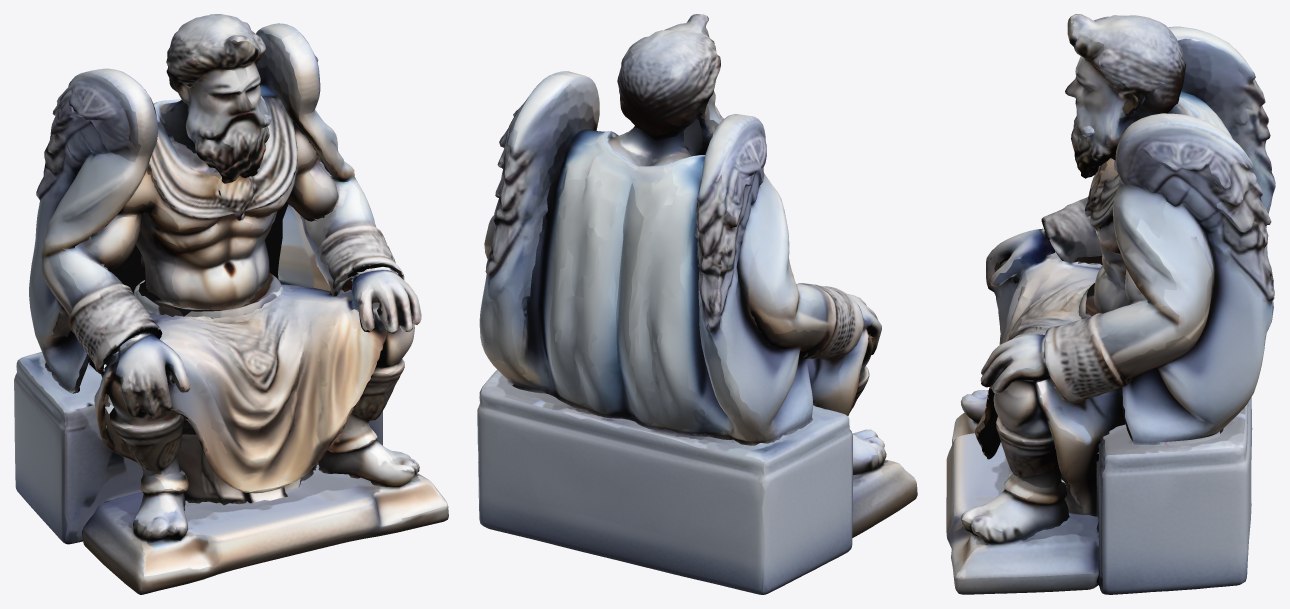
Rendered from statue.fbx.
3 renders of one model, left to right at view 1: azimuth 30°, elevation 25°; view 2: azimuth 150°, elevation 25°; view 3: azimuth 270°, elevation 25°, orthographic. The views are drawn at different scales.
Parts seen in each view (by area): view 1: tmpqa6kt3pl.ply; view 2: tmpqa6kt3pl.ply; view 3: tmpqa6kt3pl.ply.
Part boxes in pixels (x1,y1,x2,y2): tmpqa6kt3pl.ply: [14, 14, 448, 594]; tmpqa6kt3pl.ply: [477, 14, 917, 594]; tmpqa6kt3pl.ply: [946, 14, 1275, 594].
Size of the model in its own units: 142 by 199 by 118.
Materials: 1 (1 with a texture image).
